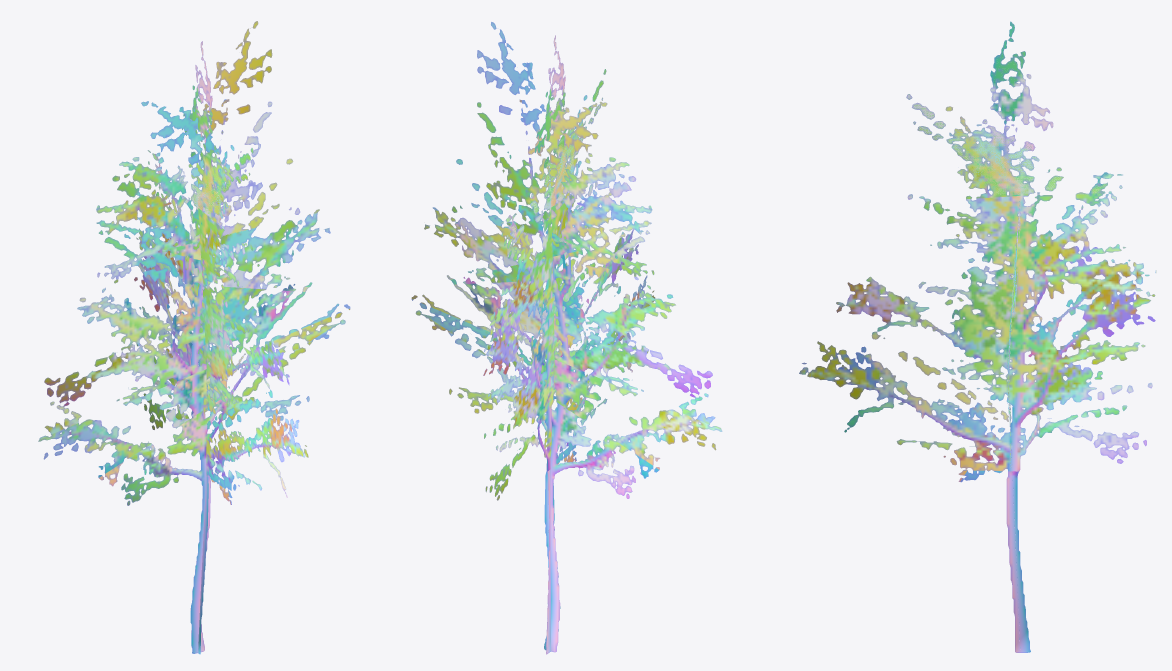
The model's file is tree_young_birch_01_CROSS.FBX.
3 renders of one model, left to right at view 1: azimuth 30°, elevation 25°; view 2: azimuth 150°, elevation 25°; view 3: azimuth 270°, elevation 25°, orthographic. The views are drawn at different scales.
Visible parts, largest first — view 1: tree_young_birch_01_CROSS; view 2: tree_young_birch_01_CROSS; view 3: tree_young_birch_01_CROSS.
Boxes of the visible parts, <box> form: tree_young_birch_01_CROSS: <box>38,21,350,654</box>; tree_young_birch_01_CROSS: <box>411,22,722,654</box>; tree_young_birch_01_CROSS: <box>799,21,1156,652</box>.
Size of the model in its own units: 3201 by 5407 by 2931.
